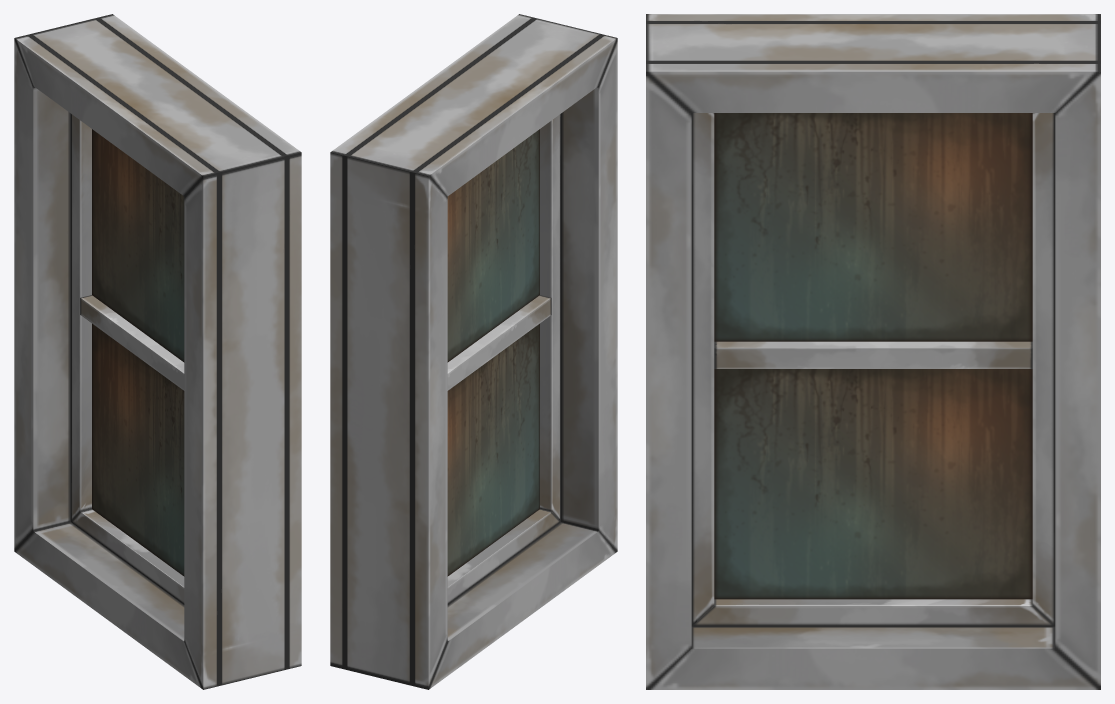
File: window12.fbx
The picture shows the model from 3 angles, left to right: view 1: azimuth 30°, elevation 25°; view 2: azimuth 150°, elevation 25°; view 3: azimuth 270°, elevation 25°; orthographic projection. The views are drawn at different scales.
Visible parts, largest first — view 1: window12; view 2: window12; view 3: window12.
Boxes of the visible parts, bbox=[...] form: window12: bbox=[14, 14, 301, 689]; window12: bbox=[330, 14, 617, 689]; window12: bbox=[646, 14, 1100, 689].
Size of the model in its own units: 30 by 150 by 100.
